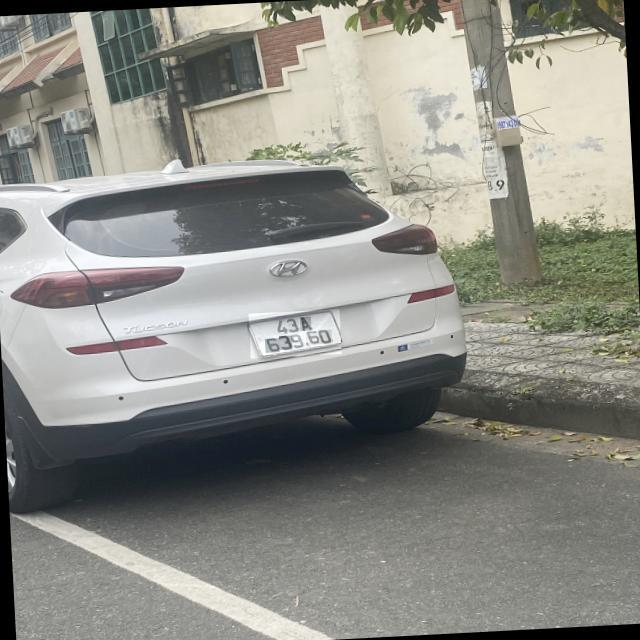car: (10, 162, 470, 488)
plate: (243, 306, 348, 362)
